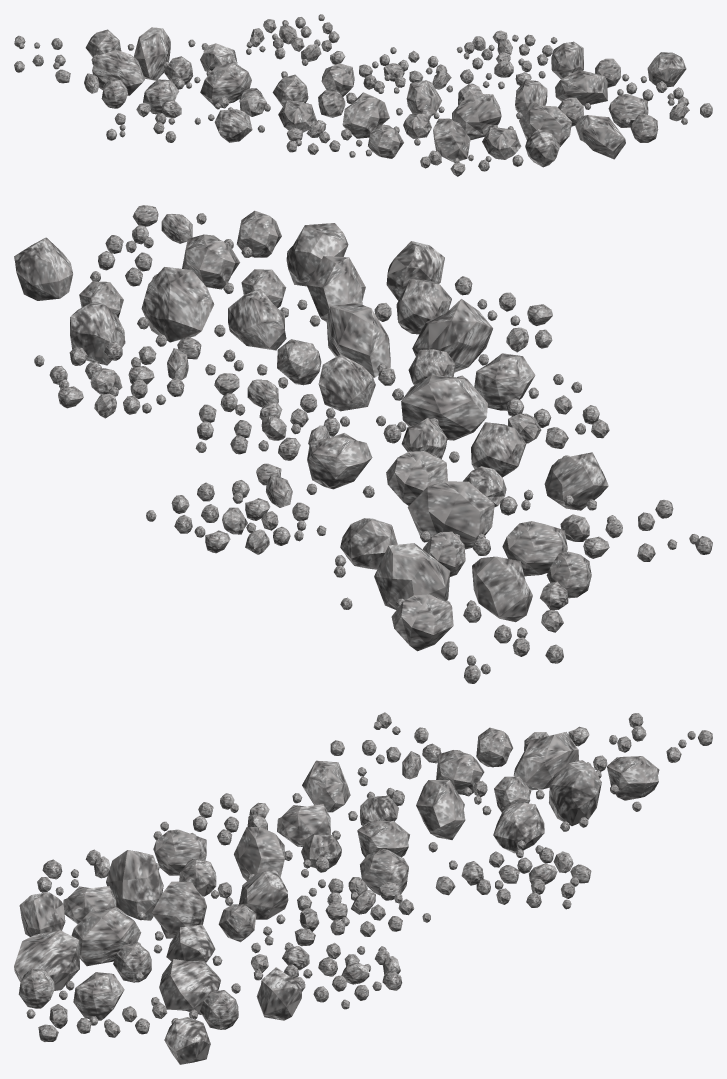
Rendered from pebbles_v3.glb.
3 renders of one model, top to bottom at view 1: azimuth 30°, elevation 25°; view 2: azimuth 150°, elevation 25°; view 3: azimuth 270°, elevation 25°, orthographic. The views are drawn at different scales.
Parts seen in each view (by area): view 1: Sphere.053; view 2: Sphere.053; view 3: Sphere.053.
Part boxes in pixels (left/top/right/bottom): Sphere.053: left=14, top=14, right=712, bottom=176; Sphere.053: left=14, top=205, right=712, bottom=683; Sphere.053: left=14, top=712, right=712, bottom=1064.
Bounding box in the file's own units: 6.75 × 0.5999 × 5.96.
Materials: 1 (1 with a texture image).
